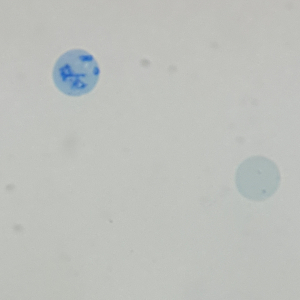aggregate reticulocyte: (50, 47, 101, 98)
punctate reticulocyte: (233, 154, 283, 203)
